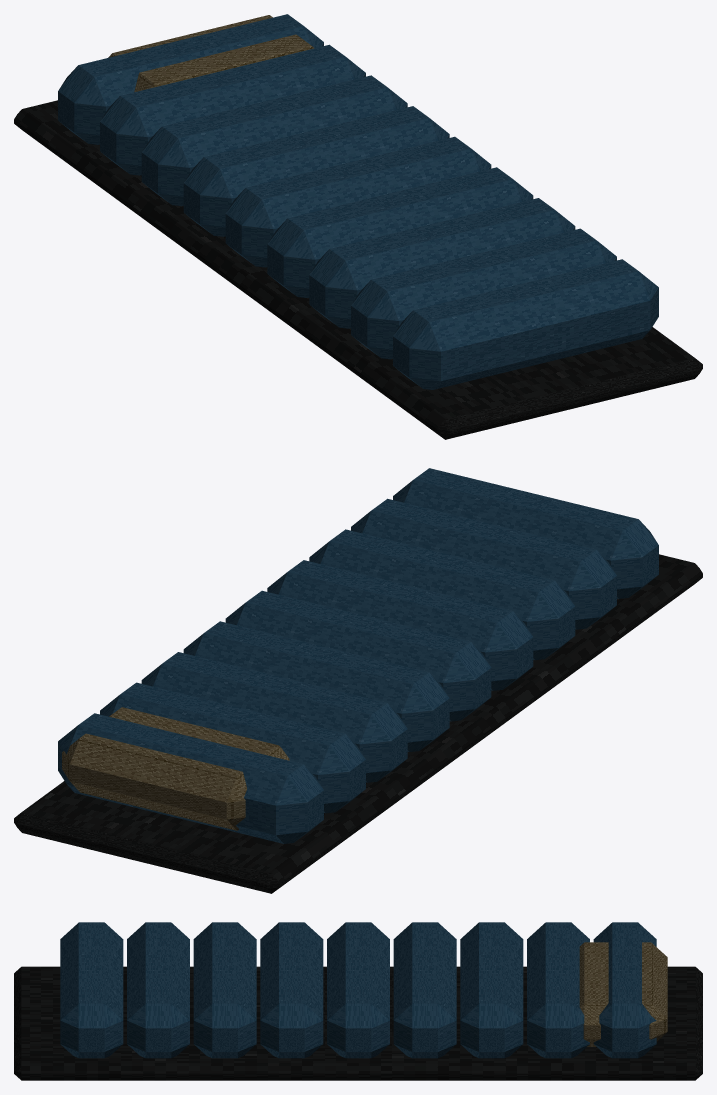
The model's file is level_trace_bedroll.glb.
The picture shows the model from 3 angles, top to bottom: view 1: azimuth 30°, elevation 25°; view 2: azimuth 150°, elevation 25°; view 3: azimuth 270°, elevation 25°; orthographic projection. The views are drawn at different scales.
Visible parts, largest first — view 1: level_trace_bedroll; view 2: level_trace_bedroll; view 3: level_trace_bedroll.
Boxes of the visible parts, left/top/right/bottom form: level_trace_bedroll: left=14, top=14, right=702, bottom=439; level_trace_bedroll: left=14, top=468, right=702, bottom=893; level_trace_bedroll: left=14, top=922, right=702, bottom=1080.
Size of the model in its own units: 0.66 by 0.205 by 1.86.
Materials: 3 (3 with a texture image).
